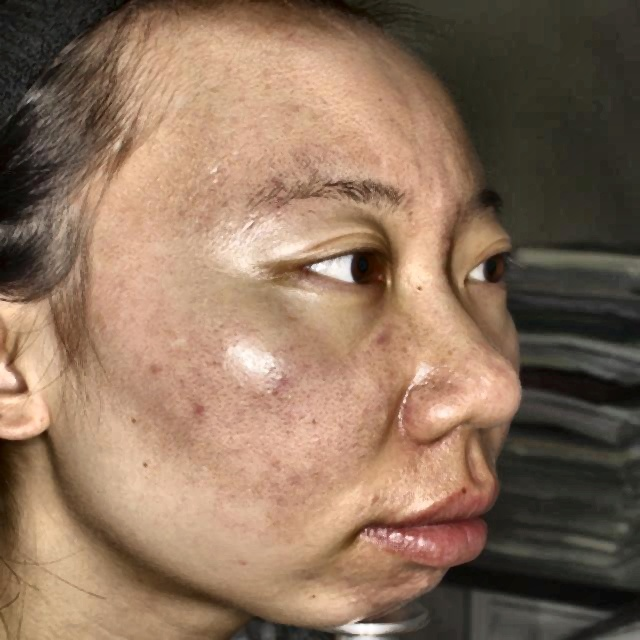comedone: (371, 322, 393, 350), (415, 570, 438, 590)
